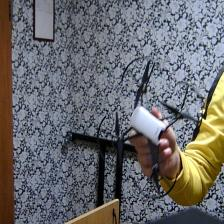drone: (96, 58, 208, 204)
